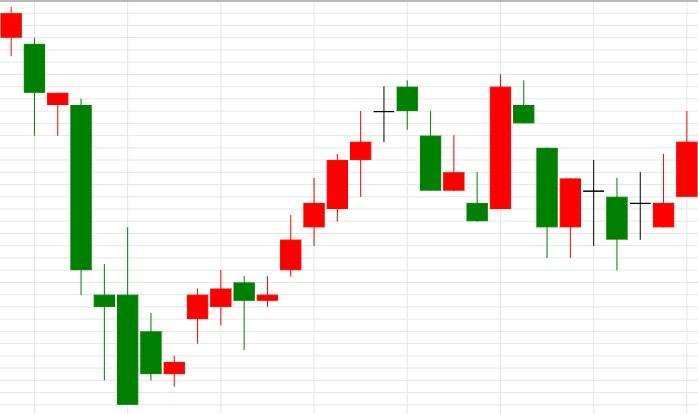hanging_man_fall: (163, 269, 256, 387)
inverse_hammer_rise: (489, 74, 675, 272), (396, 79, 489, 223)
